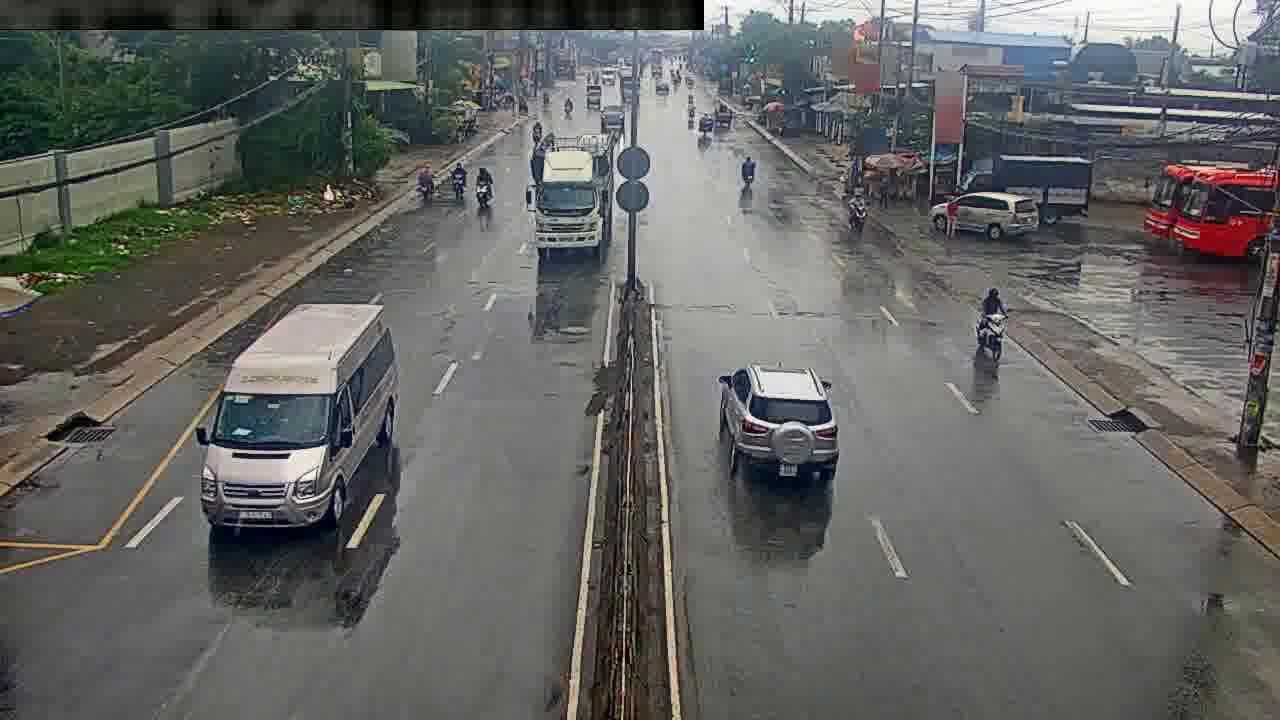14: (201, 305, 392, 531)
8: (530, 133, 612, 253)
container: (716, 364, 836, 483)
motorbike: (976, 283, 1008, 361), (846, 179, 867, 229), (416, 161, 436, 204), (474, 160, 492, 207), (739, 148, 757, 195), (696, 105, 717, 142), (451, 158, 464, 194)
